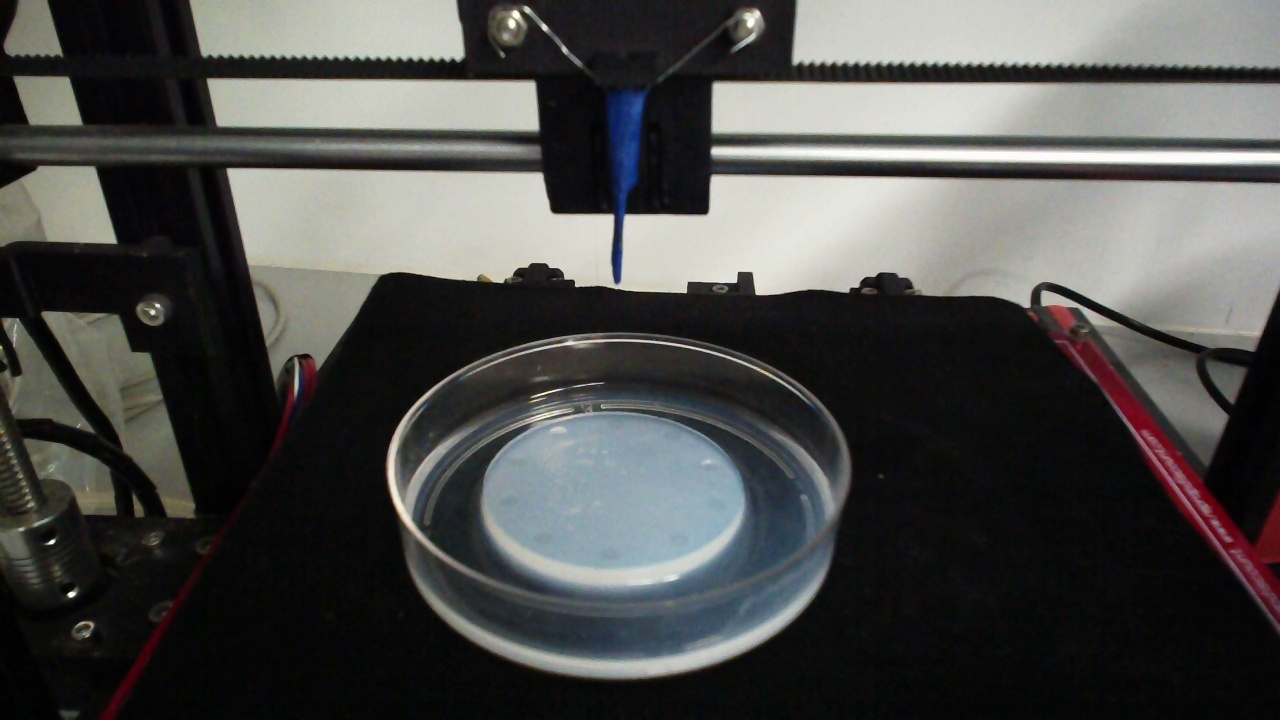groove: (597, 544, 622, 562), (701, 493, 725, 511), (666, 531, 690, 548), (660, 427, 683, 443), (604, 415, 625, 432), (532, 529, 552, 546), (697, 457, 719, 472), (505, 453, 525, 469), (499, 492, 517, 506), (549, 424, 566, 438)
needle: (608, 91, 644, 285)
